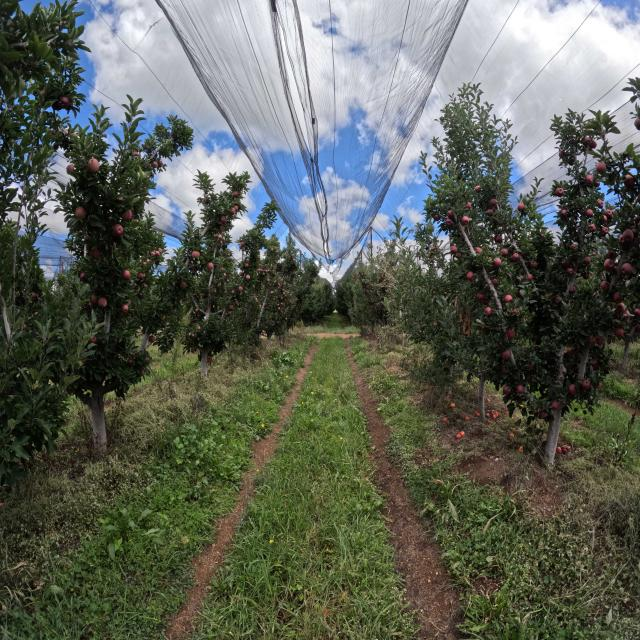-FireBlight-: (462, 315, 472, 337), (455, 298, 459, 315), (459, 314, 462, 323)
